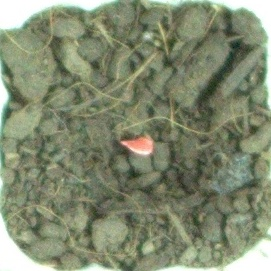pepper seed: (37, 55, 195, 213)
